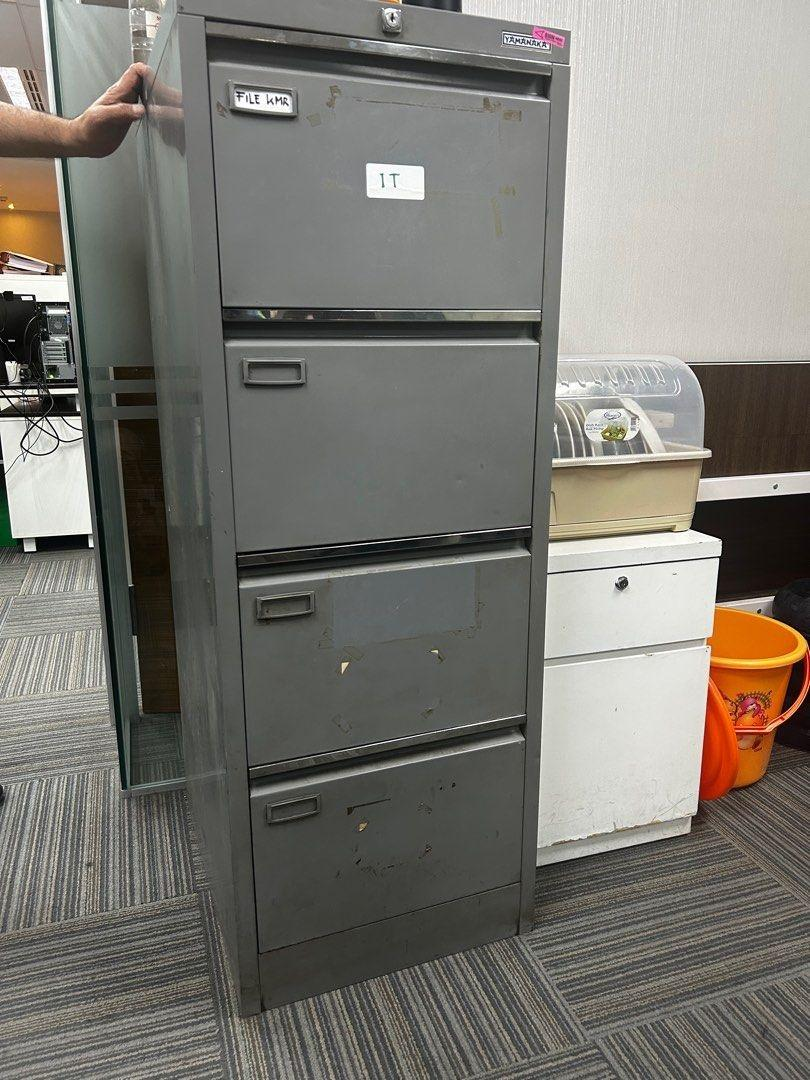Filing Cabinet: (174, 0, 572, 1016), (532, 539, 719, 870)
